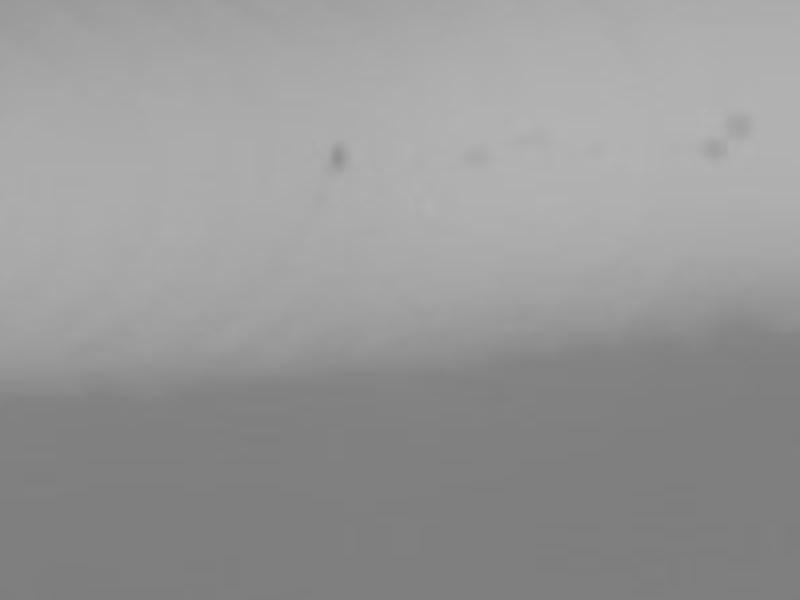defect: (721, 109, 751, 141), (698, 134, 728, 160), (326, 140, 347, 174), (462, 141, 489, 163)
